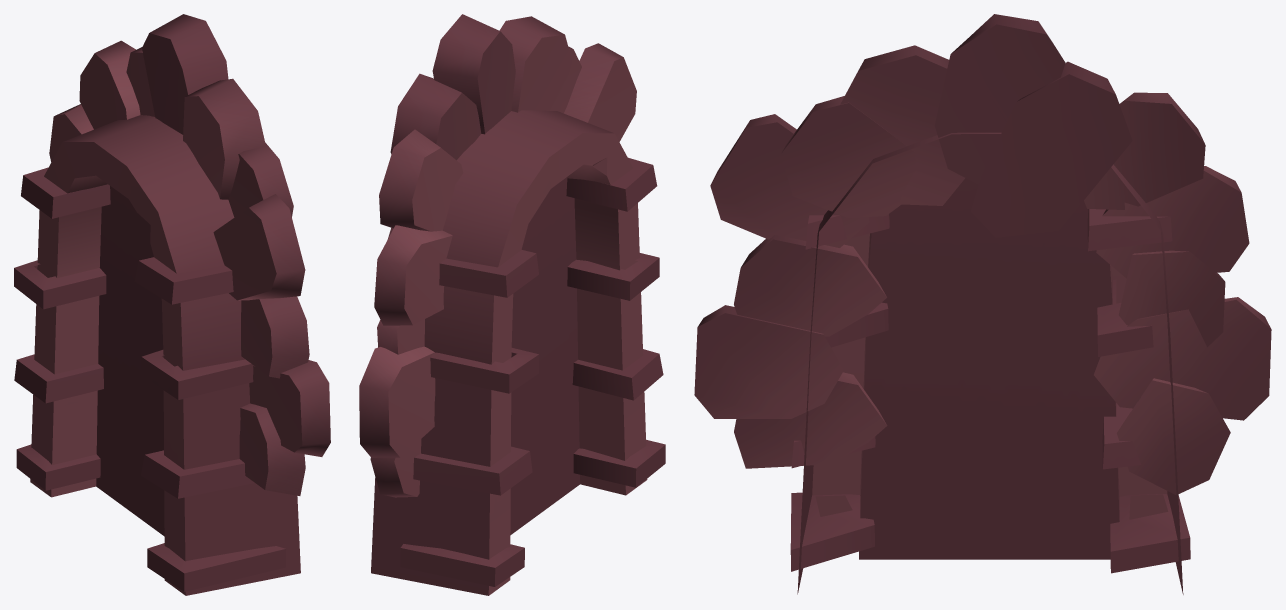
The model's file is Door (1).fbx.
The picture shows the model from 3 angles, left to right: view 1: azimuth 30°, elevation 25°; view 2: azimuth 150°, elevation 25°; view 3: azimuth 270°, elevation 25°; orthographic projection. The views are drawn at different scales.
Parts seen in each view (by area): view 1: Plane.003; view 2: Plane.003; view 3: Plane.003.
Part boxes in pixels (bbox=[...]): Plane.003: bbox=[14, 14, 330, 595]; Plane.003: bbox=[359, 14, 665, 595]; Plane.003: bbox=[694, 14, 1271, 594].
Size of the model in its own units: 0.3298 by 1.19 by 1.1.
